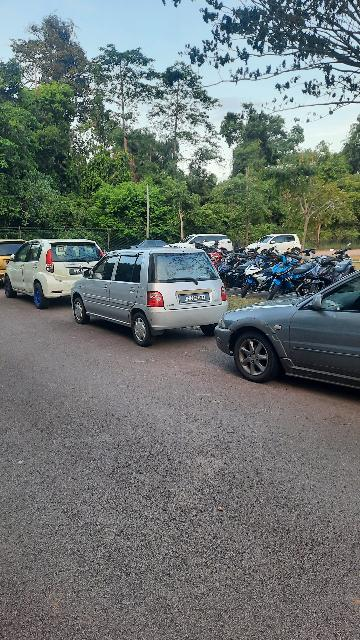License_Plate: (179, 290, 213, 304), (69, 267, 96, 277)
car: (216, 269, 360, 400), (72, 246, 233, 346), (4, 238, 104, 313)
